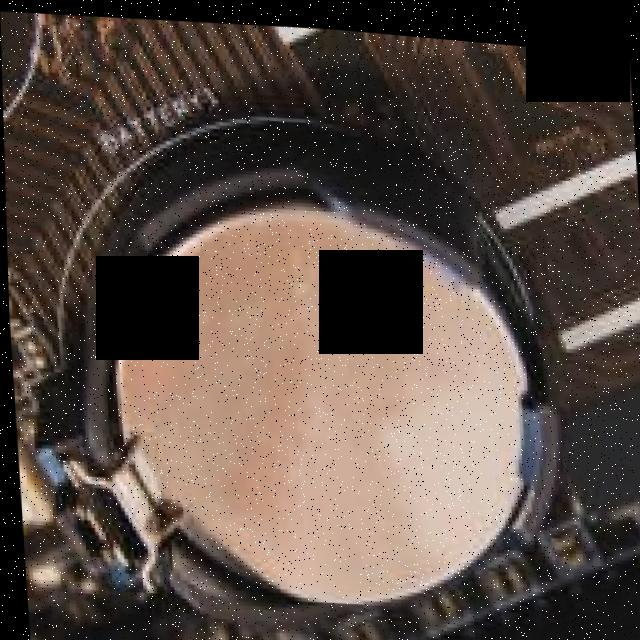battery: (64, 142, 568, 640)
